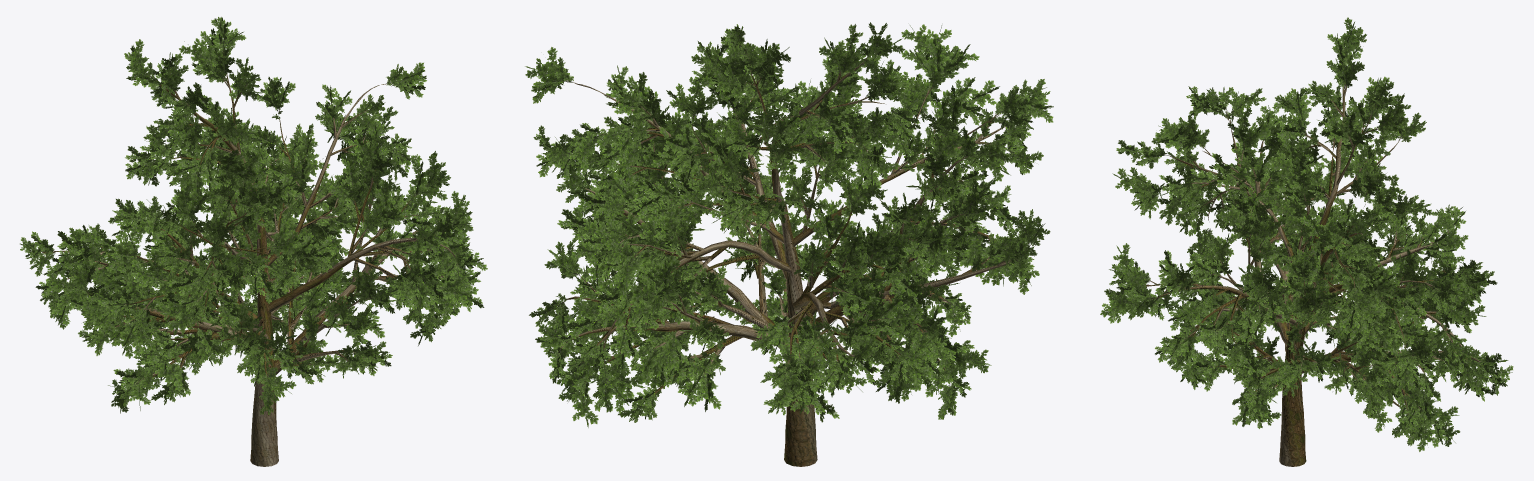
Rendered from oak-101-lod1.glb.
3 renders of one model, left to right at view 1: azimuth 30°, elevation 25°; view 2: azimuth 150°, elevation 25°; view 3: azimuth 270°, elevation 25°, orthographic. The views are drawn at different scales.
Visible parts, largest first — view 1: leaves, branches; view 2: leaves, branches; view 3: leaves, branches.
Part boxes in pixels (<box>): leaves: <box>20,17,487,415</box>; branches: <box>41,51,457,466</box>; leaves: <box>525,22,1053,427</box>; branches: <box>558,53,1025,466</box>; leaves: <box>1100,17,1513,451</box>; branches: <box>1141,72,1480,466</box>.
Bounding box in the file's own units: 18.6 × 18 × 17.39.
Materials: 2 (2 with a texture image).
